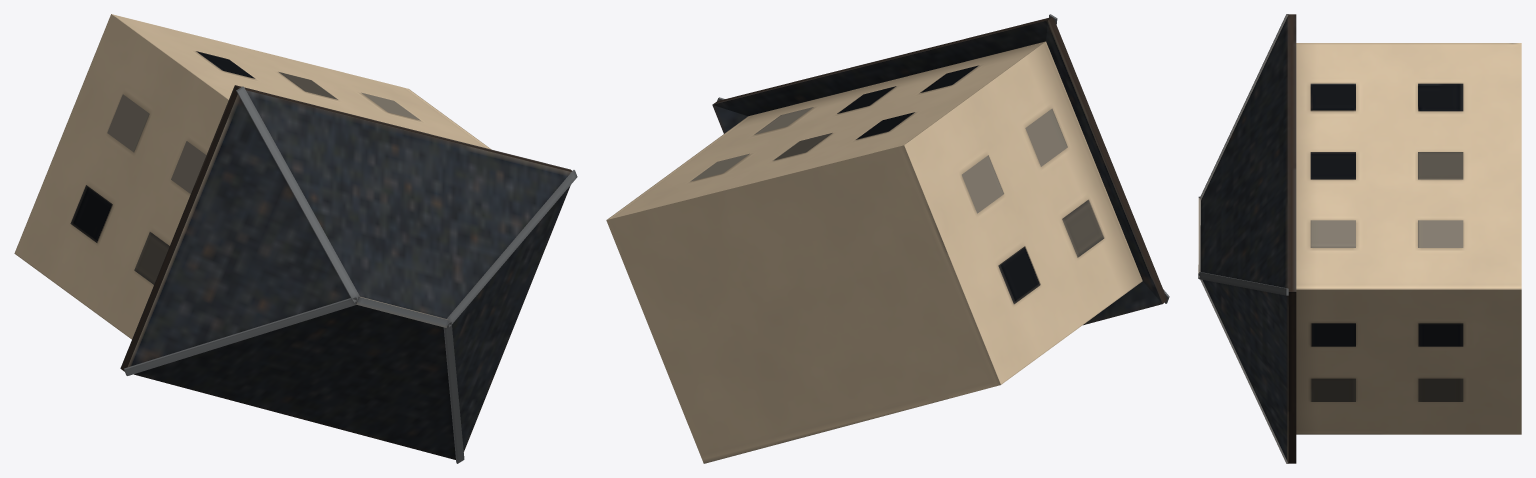
The model's file is house_b0358.obj.
3 renders of one model, left to right at view 1: azimuth 30°, elevation 25°; view 2: azimuth 150°, elevation 25°; view 3: azimuth 270°, elevation 25°, orthographic. The views are drawn at different scales.
Parts seen in each view (by area): view 1: house_b0358; view 2: house_b0358; view 3: house_b0358.
Boxes of the visible parts, x1=… form: house_b0358: x1=14, y1=14, x2=577, y2=463; house_b0358: x1=606, y1=14, x2=1169, y2=463; house_b0358: x1=1198, y1=14, x2=1521, y2=463.
Bounding box in the file's own units: 12.3 × 11.14 × 9.03.
1 material, 1 textured.
